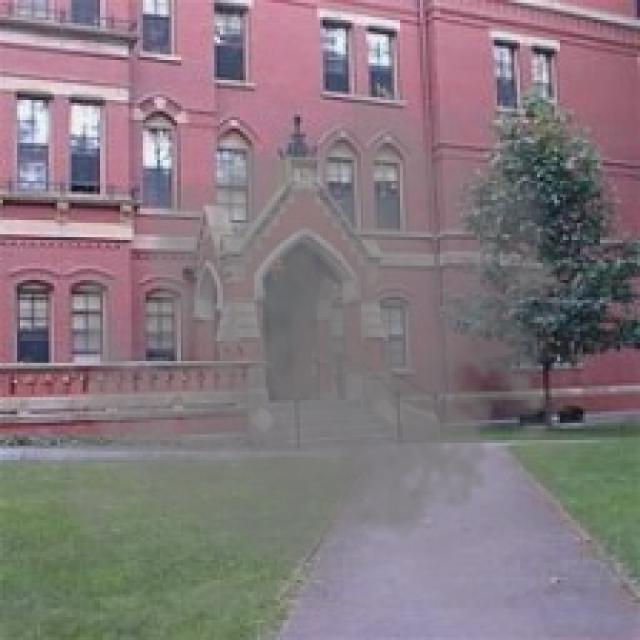smoke: (46, 60, 574, 609)
